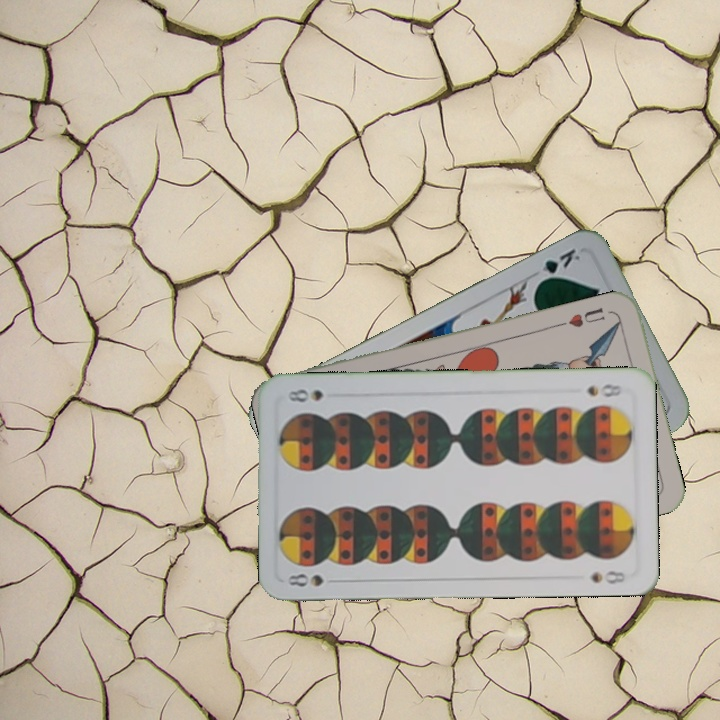GK: (533, 244, 583, 287)
HU: (564, 303, 607, 330)
S8: (283, 570, 327, 590), (583, 380, 625, 400)
